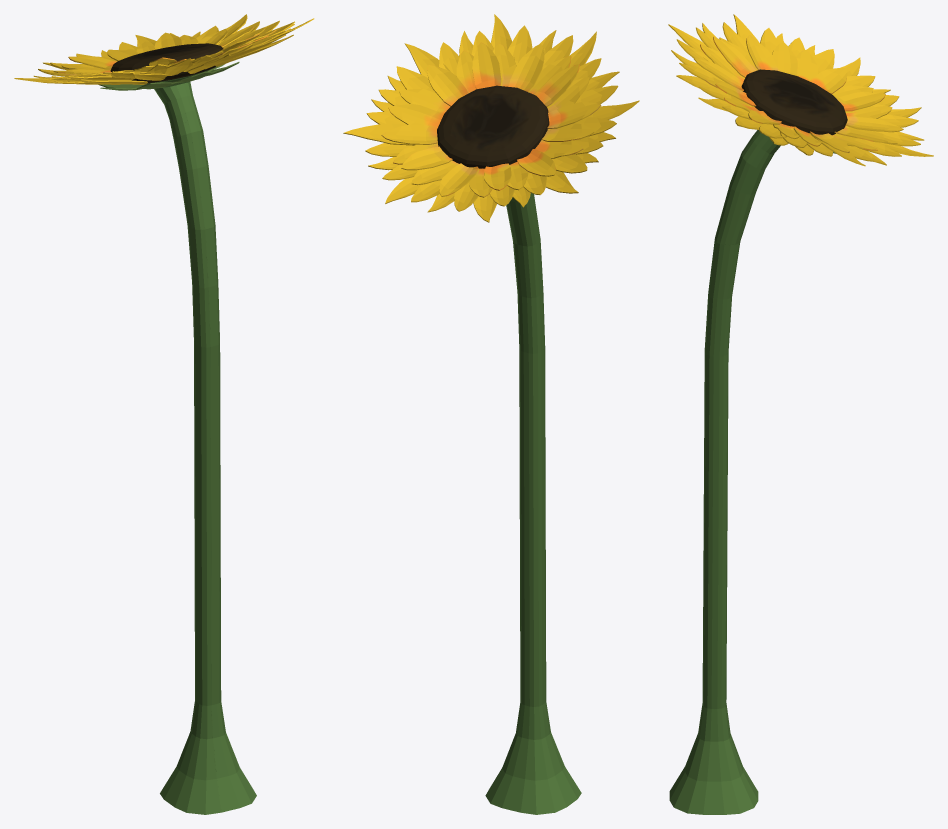
The model's file is girasol.fbx.
The picture shows the model from 3 angles, left to right: view 1: azimuth 30°, elevation 25°; view 2: azimuth 150°, elevation 25°; view 3: azimuth 270°, elevation 25°; orthographic projection.
Parts seen in each view (by area): view 1: Cube, HojasP1, hojasP3, hojasP2, hojaP4; view 2: Cube, HojasP1, hojasP2, hojasP3; view 3: Cube, HojasP1, hojasP2, hojasP3.
Part boxes in pixels (x1,y1,x2,y2): Cube: (110, 43, 256, 814); HojasP1: (53, 27, 276, 76); hojasP3: (14, 14, 314, 84); hojasP2: (33, 20, 294, 80); hojaP4: (98, 62, 239, 90); Cube: (437, 85, 581, 814); HojasP1: (381, 42, 601, 197); hojasP2: (365, 25, 618, 211); hojasP3: (343, 14, 639, 222); Cube: (669, 69, 847, 814); HojasP1: (694, 35, 903, 152); hojasP2: (676, 22, 920, 161); hojasP3: (668, 14, 933, 166).
Size of the model in its own units: 2511 by 7733 by 2461.
Materials: 4 (4 with a texture image).
